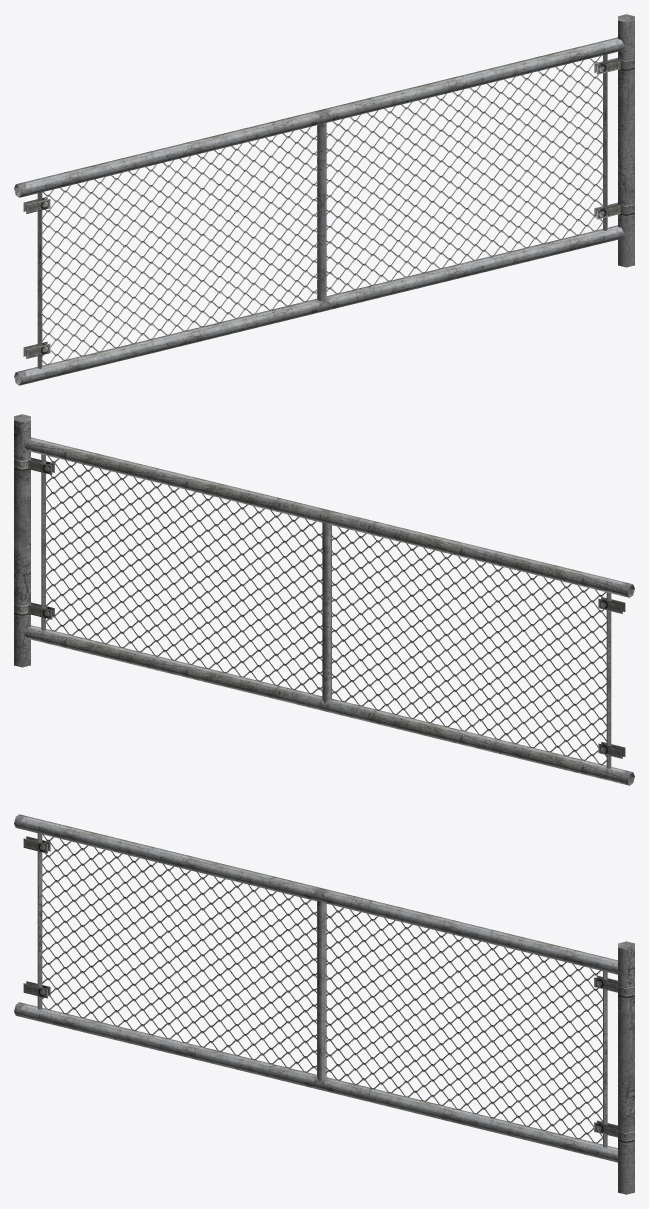
Rendered from fenceMetalLowB.FBX.
The picture shows the model from 3 angles, top to bottom: view 1: azimuth 30°, elevation 25°; view 2: azimuth 150°, elevation 25°; view 3: azimuth 330°, elevation 25°; orthographic projection.
Visible parts, largest first — view 1: fenceMetalLowB; view 2: fenceMetalLowB; view 3: fenceMetalLowB.
Boxes of the visible parts, left/top/right/bottom form: fenceMetalLowB: left=14, top=14, right=634, bottom=385; fenceMetalLowB: left=14, top=414, right=634, bottom=785; fenceMetalLowB: left=14, top=814, right=634, bottom=1194.
Size of the model in its own units: 102 by 38.53 by 2.42.
